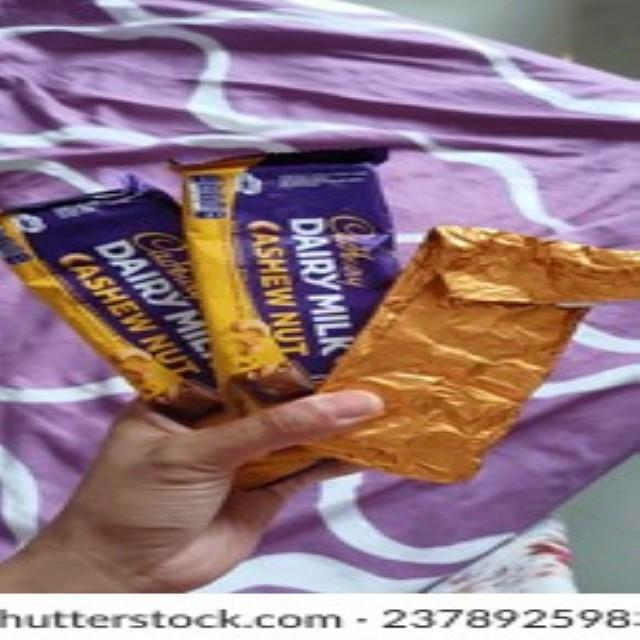cadbury_chocolate: (195, 154, 407, 418), (10, 202, 247, 415)
